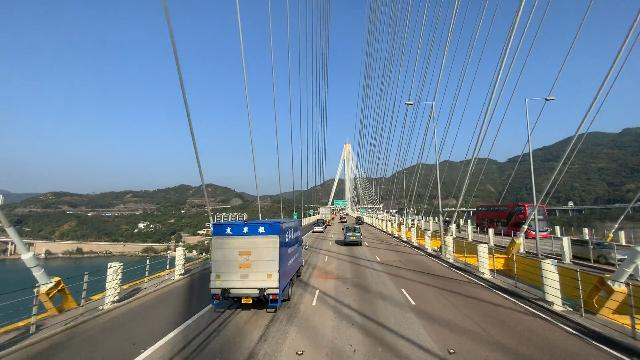bus: (473, 200, 550, 238)
car: (560, 227, 630, 268), (312, 224, 325, 233), (340, 216, 347, 223)
truck: (209, 218, 308, 314), (319, 205, 335, 226)
van: (341, 223, 364, 248), (316, 218, 326, 230), (353, 215, 365, 224)
